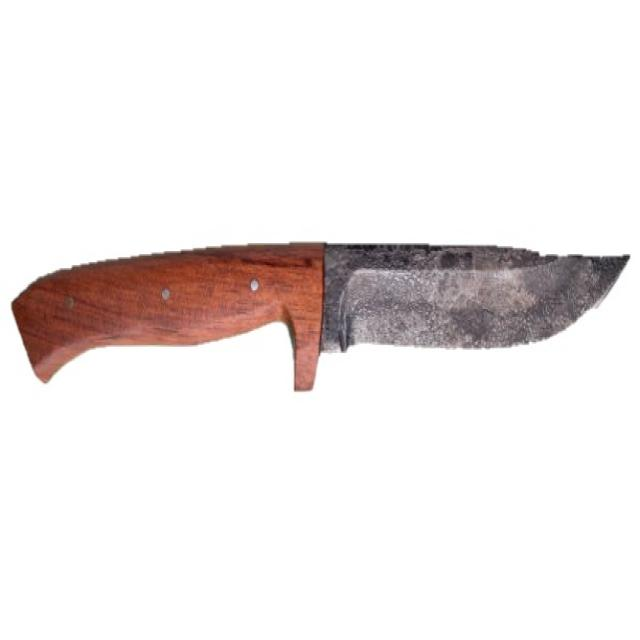knife: (10, 228, 632, 398)
